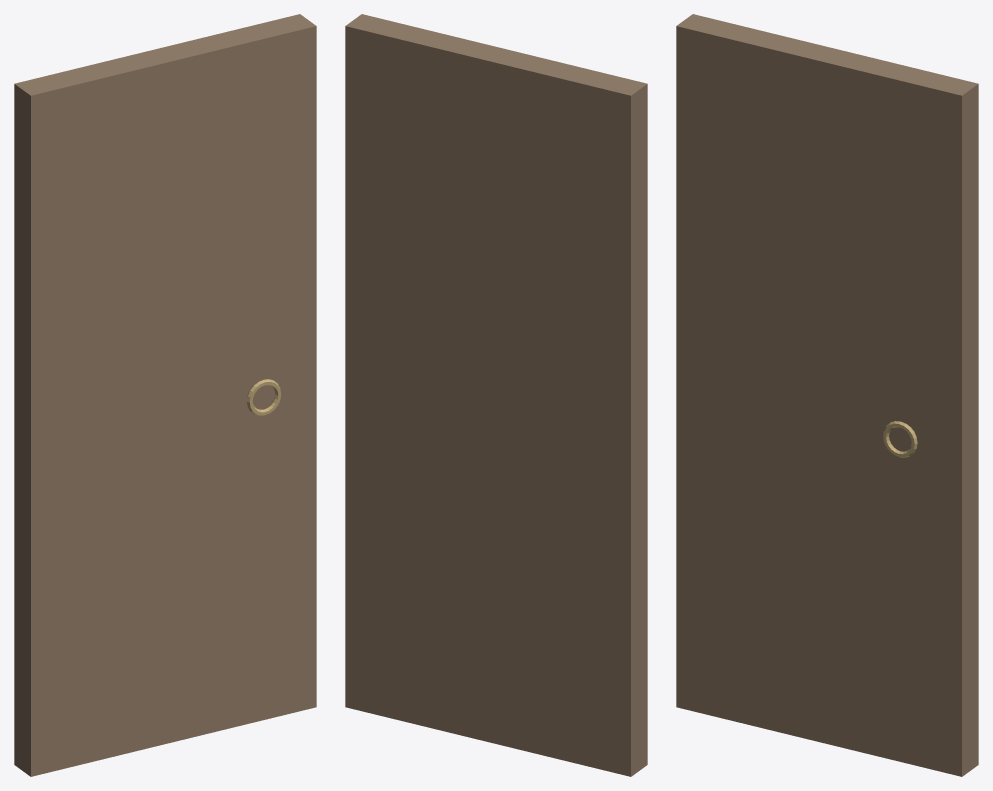
The model's file is AR-DOOR.glb.
3 views of the same model, side by side, from view 1: azimuth 30°, elevation 25°; view 2: azimuth 150°, elevation 25°; view 3: azimuth 330°, elevation 25° (orthographic).
Parts seen in each view (by area): view 1: door_leaf, handle; view 2: door_leaf; view 3: door_leaf, handle.
Boxes of the visible parts, x1,y1,x2,y2 form: door_leaf: [14, 14, 316, 776]; handle: [247, 379, 281, 415]; door_leaf: [345, 14, 647, 776]; door_leaf: [676, 14, 978, 776]; handle: [883, 421, 917, 457].
Bounding box in the file's own units: 0.9 × 2.05 × 0.1228.
